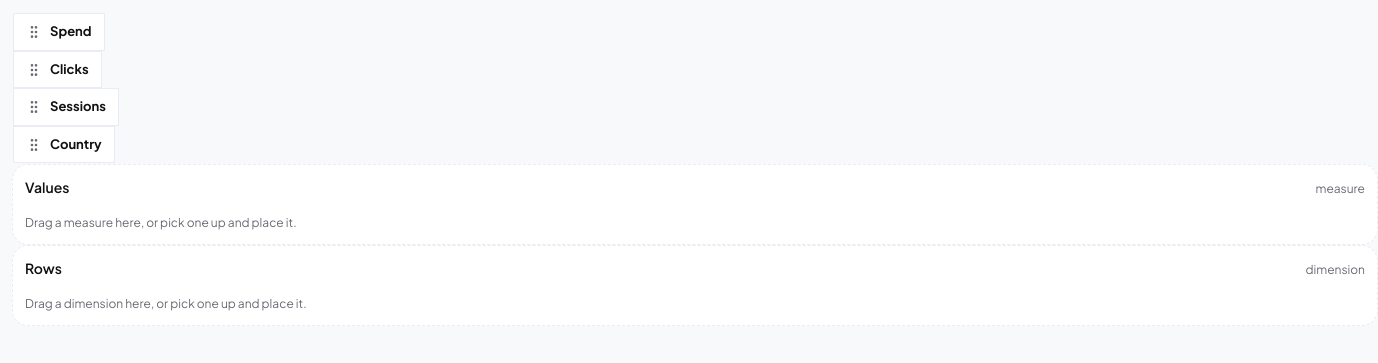
it: a well that refuses the carried field says so where the gesture is
This screenshot has width=1378, height=363.
Note: Une mesure portée au-dessus de Rows, qui n'accepte que des dimensions.
Click the button with test id "field-m1". click: [59, 32]
box: [13,13,105,50]
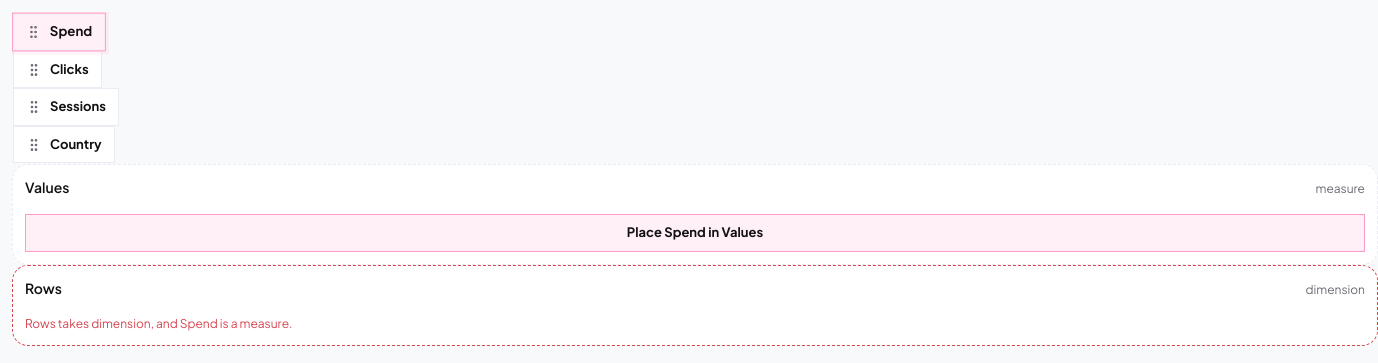
Expected: the text "Rows takes dimension, and Spend is a measure." is shown, [25,316,292,330]
